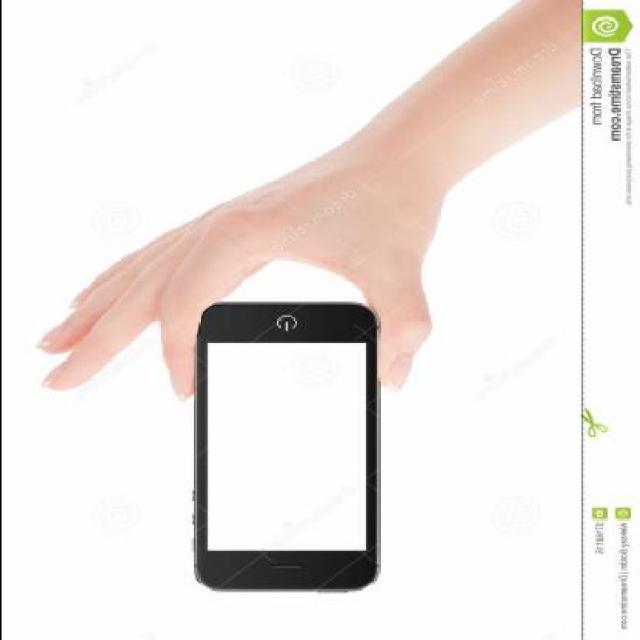phone: (191, 299, 379, 599)
